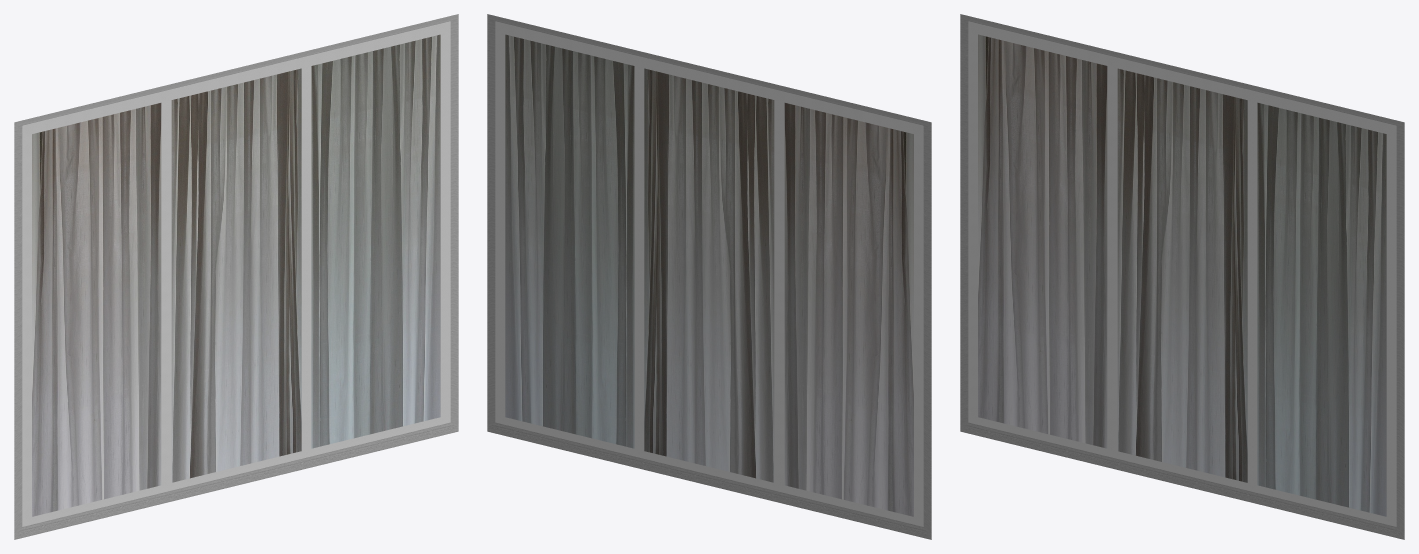
File: 3FensterBDoor.LOD.glb
3 renders of one model, left to right at view 1: azimuth 30°, elevation 25°; view 2: azimuth 150°, elevation 25°; view 3: azimuth 330°, elevation 25°, orthographic.
Parts seen in each view (by area): view 1: Cube.005; view 2: Cube.005; view 3: Cube.005.
Boxes of the visible parts, x1,y1,x2,y2 form: Cube.005: (14,14,458,539); Cube.005: (487,14,931,539); Cube.005: (960,14,1404,539).
Size of the model in its own units: 7.18 by 6.45 by 0.
3 materials, 3 textured.
